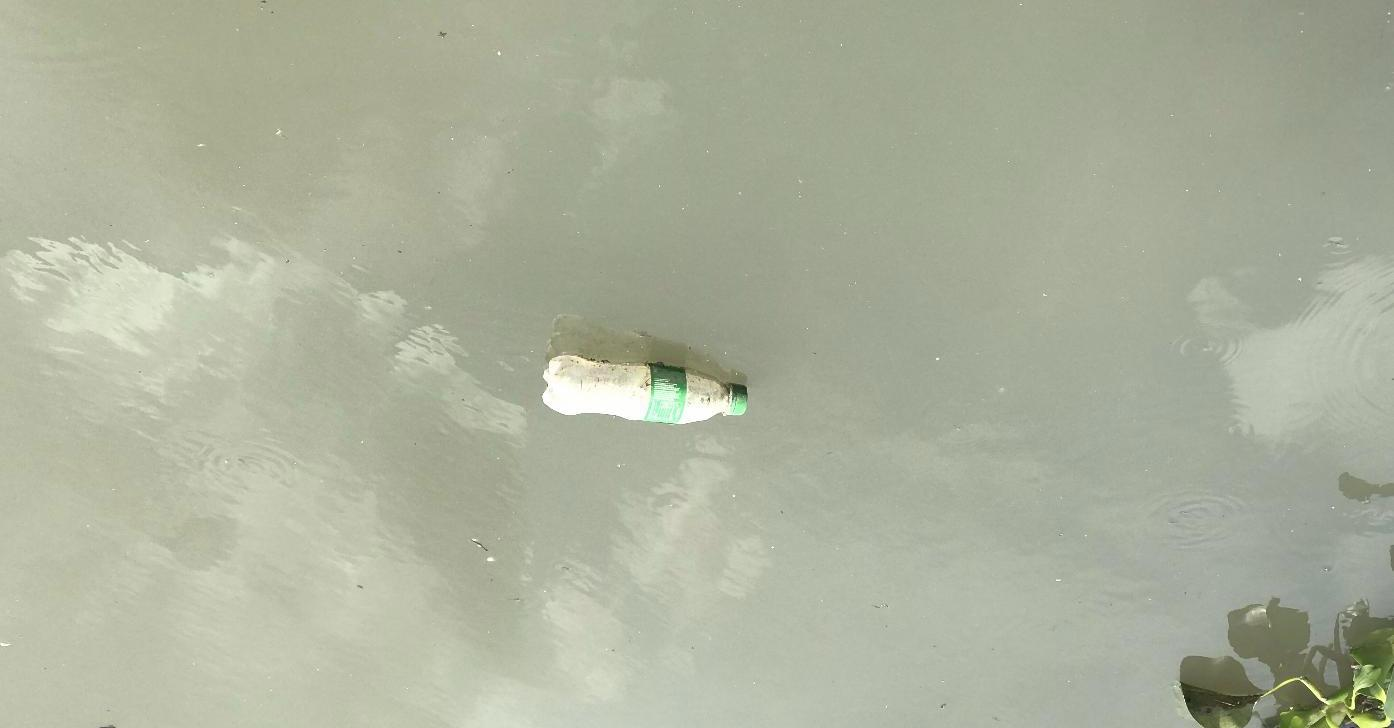Plastic: (541, 354, 750, 425)
